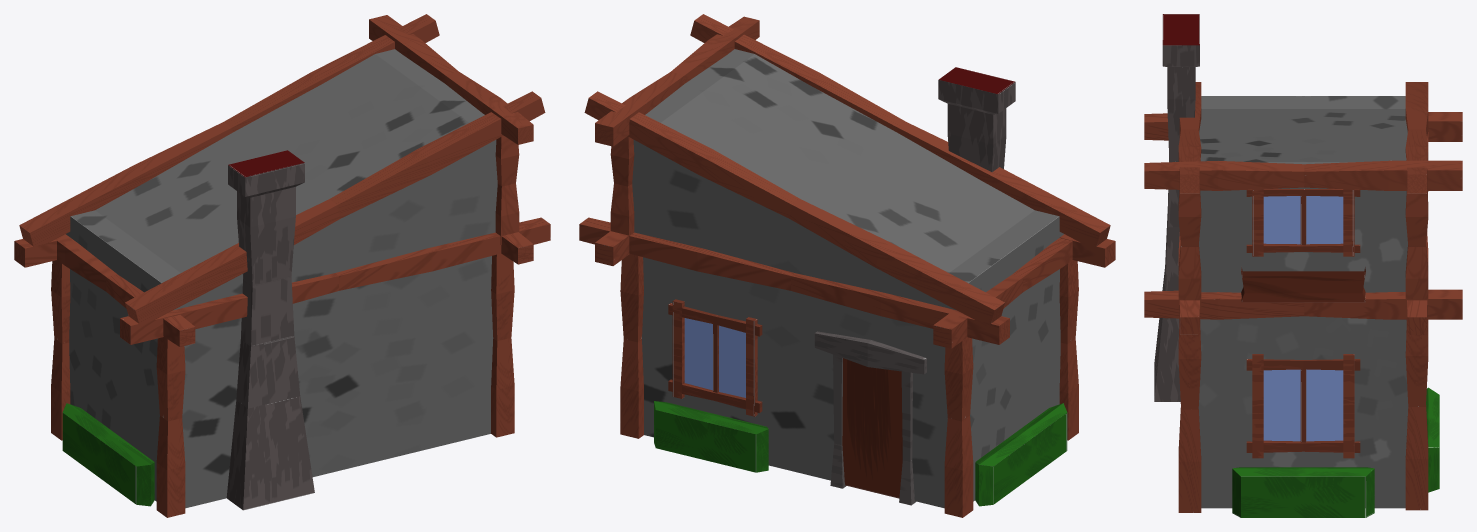
File: CasaT2.fbx
3 views of the same model, side by side, from view 1: azimuth 30°, elevation 25°; view 2: azimuth 150°, elevation 25°; view 3: azimuth 270°, elevation 25° (orthographic). The views are drawn at different scales.
Parts seen in each view (by area): view 1: Casa_001; view 2: Casa_001; view 3: Casa_001.
Boxes of the visible parts, x1,y1,x2,y2 form: Casa_001: (14,14,550,517); Casa_001: (579,14,1115,517); Casa_001: (1144,14,1462,517).
Size of the model in its own units: 460 by 345 by 280.
